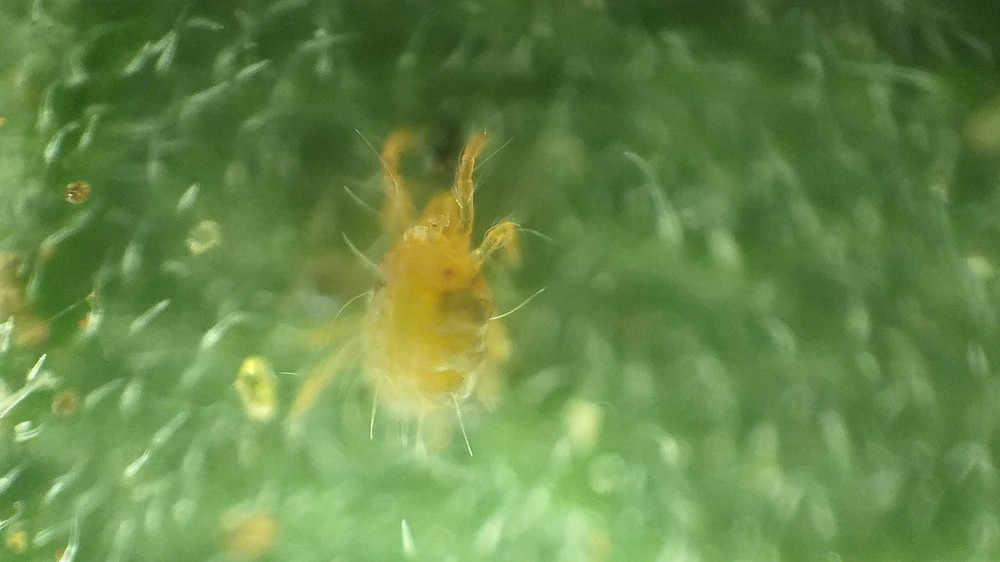Aracnido Rojo: (296, 108, 580, 472)
